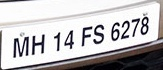character: (12, 36, 29, 58), (31, 33, 45, 56), (92, 24, 104, 44), (81, 25, 92, 46), (63, 30, 74, 50), (110, 21, 120, 41), (131, 17, 140, 37), (120, 20, 129, 39), (140, 16, 149, 35), (53, 32, 61, 51)
